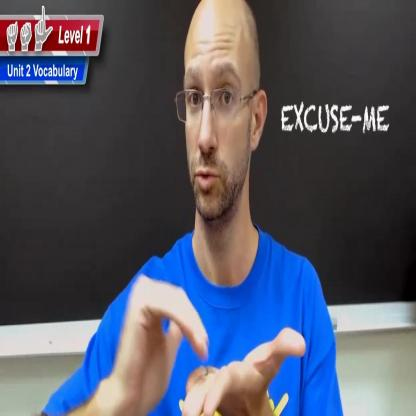ExcuseMe: (100, 271, 306, 416)
